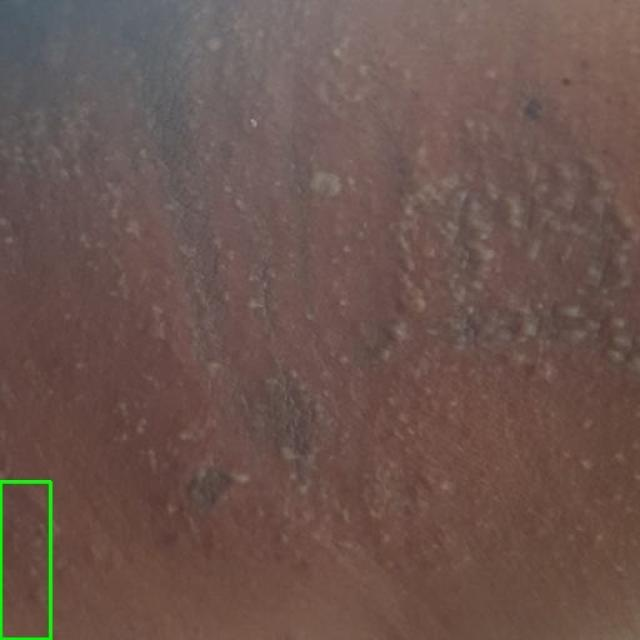Contact Dermatitis: (0, 481, 50, 639)
